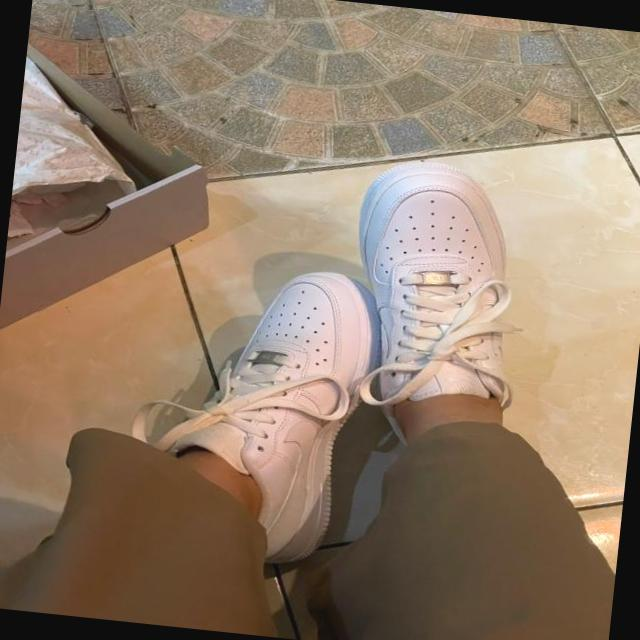nike_original_airforce: (162, 254, 382, 570), (336, 144, 534, 450)
